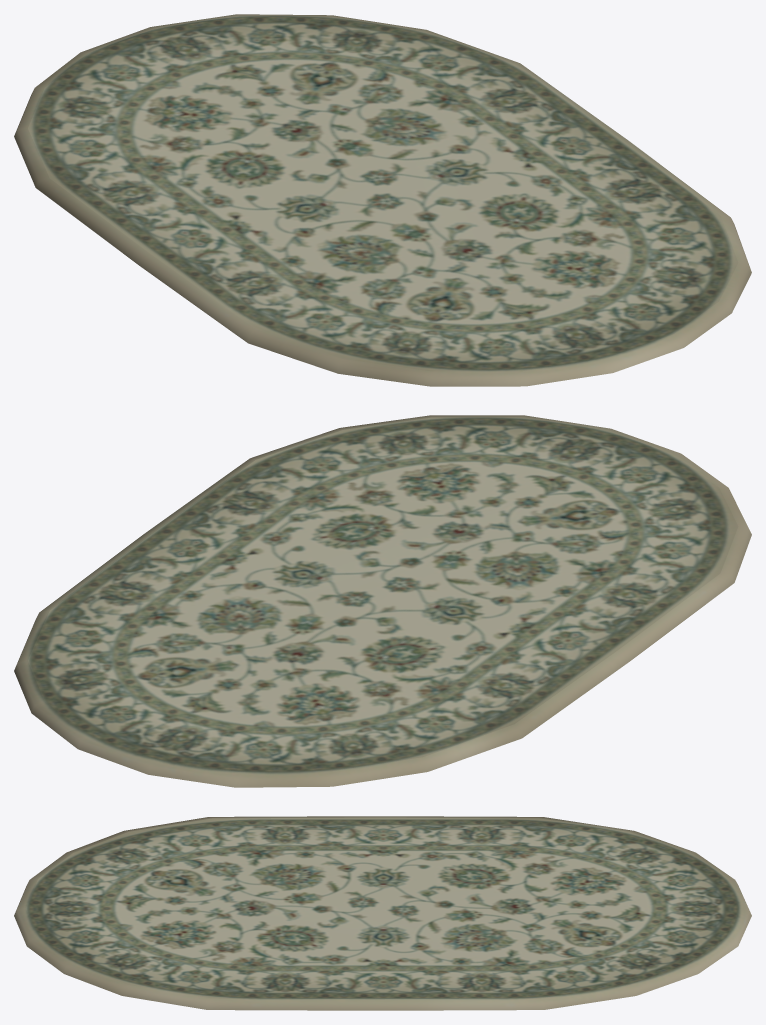
File: FoyerRug.fbx
The picture shows the model from 3 angles, top to bottom: view 1: azimuth 30°, elevation 25°; view 2: azimuth 150°, elevation 25°; view 3: azimuth 270°, elevation 25°; orthographic projection. The views are drawn at different scales.
Visible parts, largest first — view 1: rug_foyer; view 2: rug_foyer; view 3: rug_foyer.
Part boxes in pixels (x1,y1,x2,y2): rug_foyer: [14, 14, 751, 386]; rug_foyer: [14, 415, 751, 787]; rug_foyer: [14, 816, 751, 1010].
Bounding box in the file's own units: 55.76 × 1.39 × 91.52.
